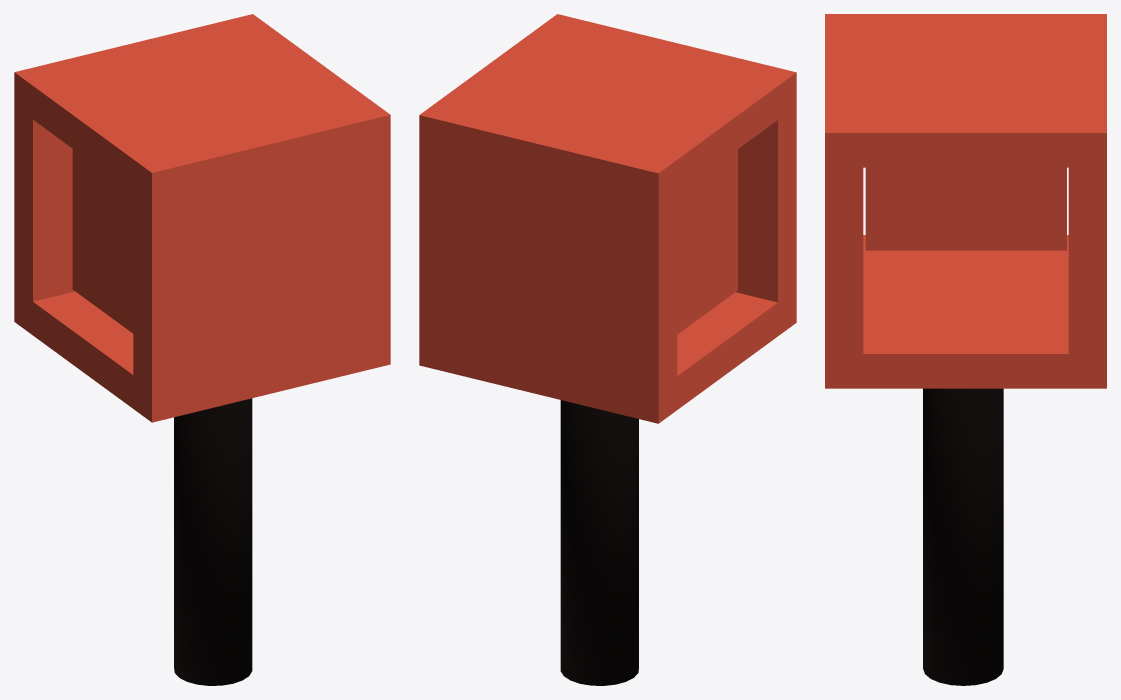
Rendered from orange_box_small.dae.
3 renders of one model, left to right at view 1: azimuth 30°, elevation 25°; view 2: azimuth 150°, elevation 25°; view 3: azimuth 270°, elevation 25°, orthographic. The views are drawn at different scales.
Parts seen in each view (by area): view 1: Cube, Cylinder, Plane; view 2: Cube, Cylinder, Plane; view 3: Cube, Cylinder, Plane.
Boxes of the visible parts, x1,y1,x2,y2 form: Cube: (14, 14, 390, 422); Cylinder: (174, 398, 252, 685); Plane: (72, 149, 133, 333); Cube: (419, 14, 796, 423); Cylinder: (560, 400, 638, 685); Plane: (677, 149, 737, 334); Cube: (825, 14, 1106, 388); Cylinder: (923, 388, 1003, 685); Plane: (865, 167, 1066, 250).
Size of the model in its own units: 0.7 by 0.7 by 1.62.
